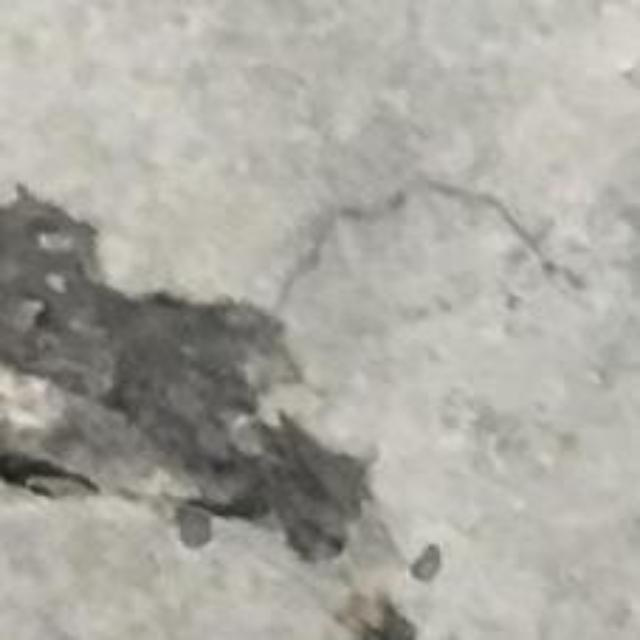crack: (0, 184, 417, 639)
